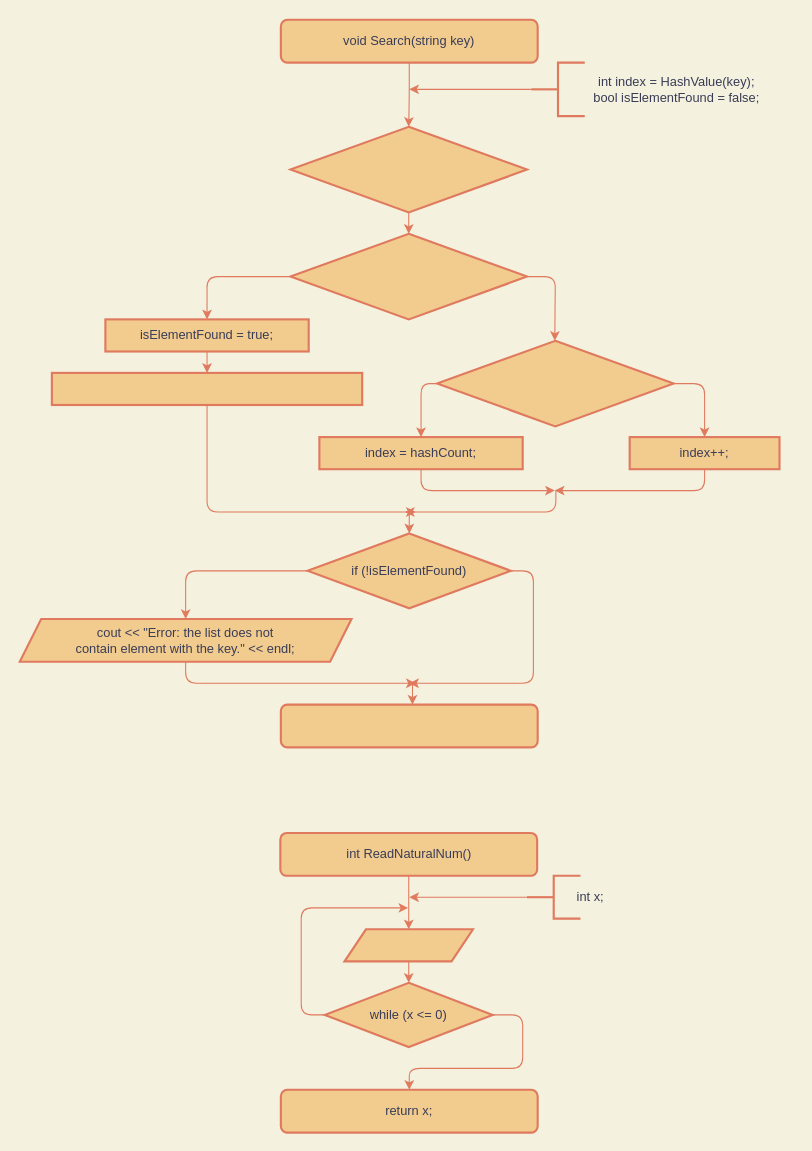
Image size: 812x1151. Some labels were removed from this diagram. Each missing label, with the centre of its shape:
"cin >> x;" belongs at (x=408, y=945).
"if (_hashTable[index]. PassportNumber == EMPTY)" belongs at (x=554, y=383).
"if (_hashTable[index]. PassportNumber == key)" belongs at (x=408, y=276).
"PrintPerson(_hashTable[index], index);" belongs at (x=206, y=388).
"while (index < _hashCount && !isElementFound )" belongs at (x=408, y=169).
